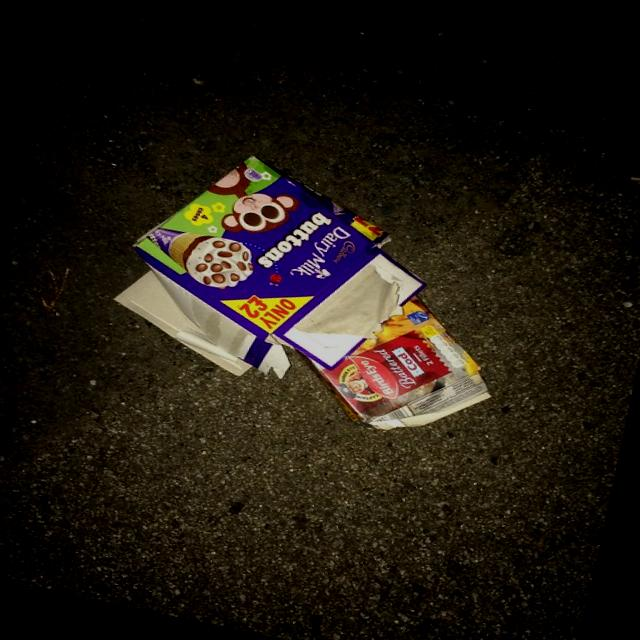Recycle: (100, 134, 442, 414), (312, 286, 506, 452)
